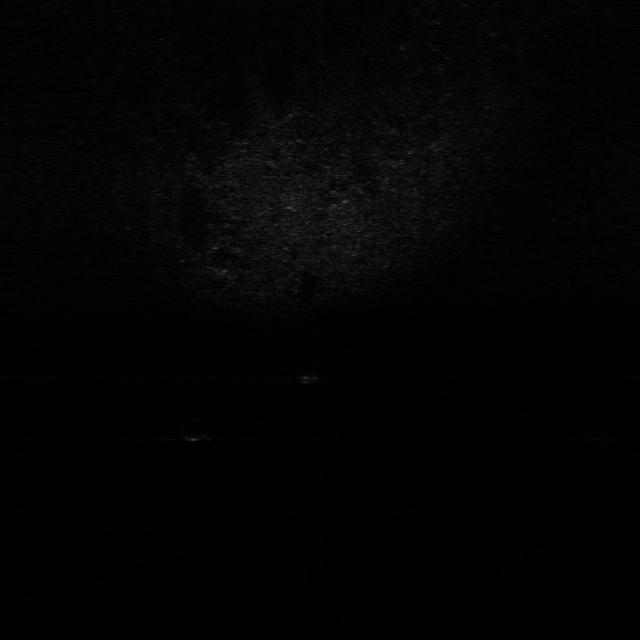ball: (177, 417, 216, 444)
cube: (293, 358, 326, 386)
